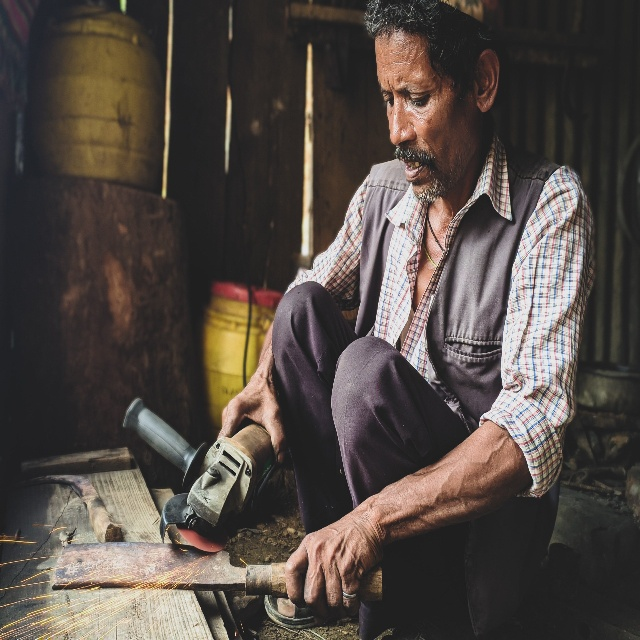Sin_guantes: (284, 505, 383, 623), (216, 368, 286, 462)
